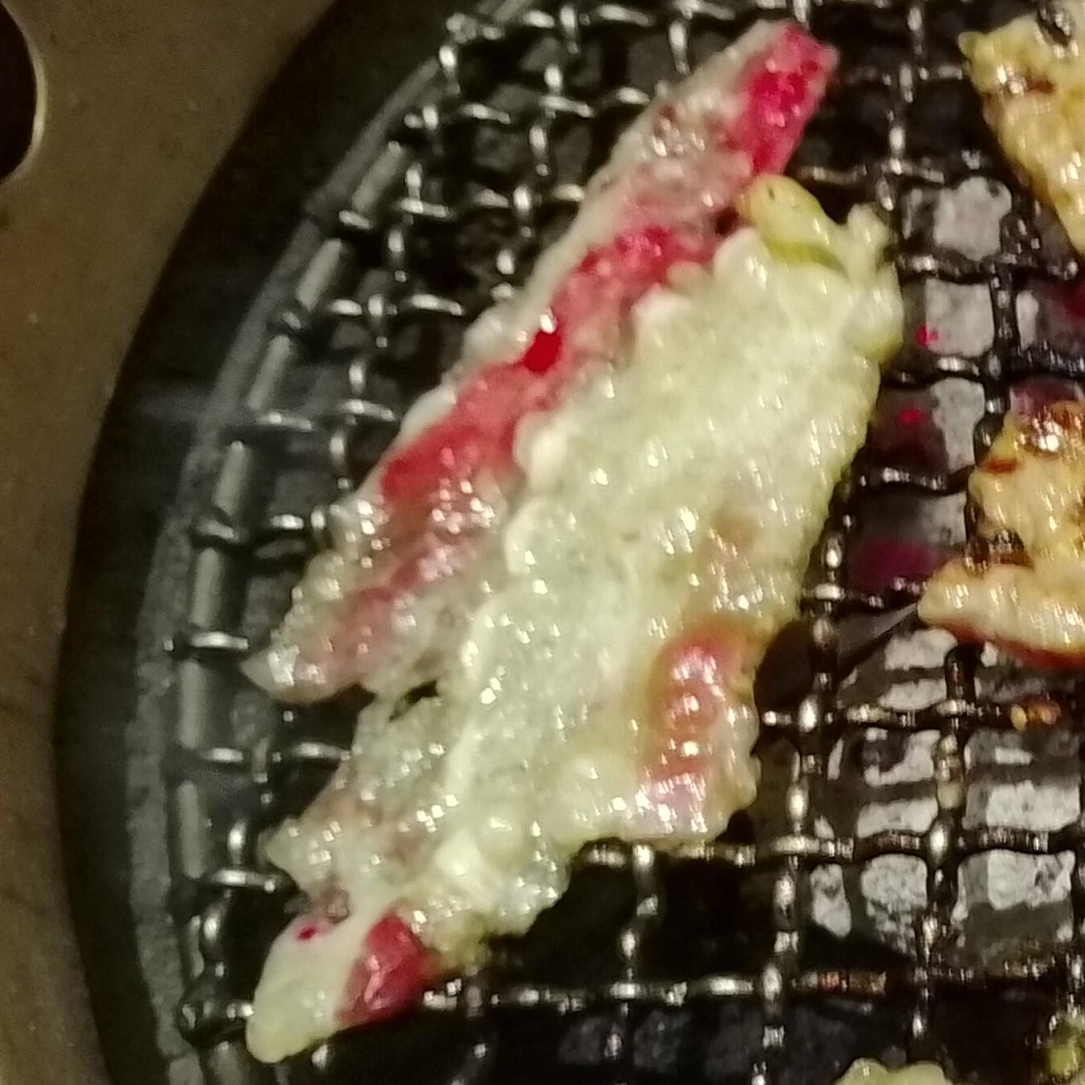Undercooked: (245, 22, 907, 1064)
Well-Cooked: (915, 375, 1084, 675)
